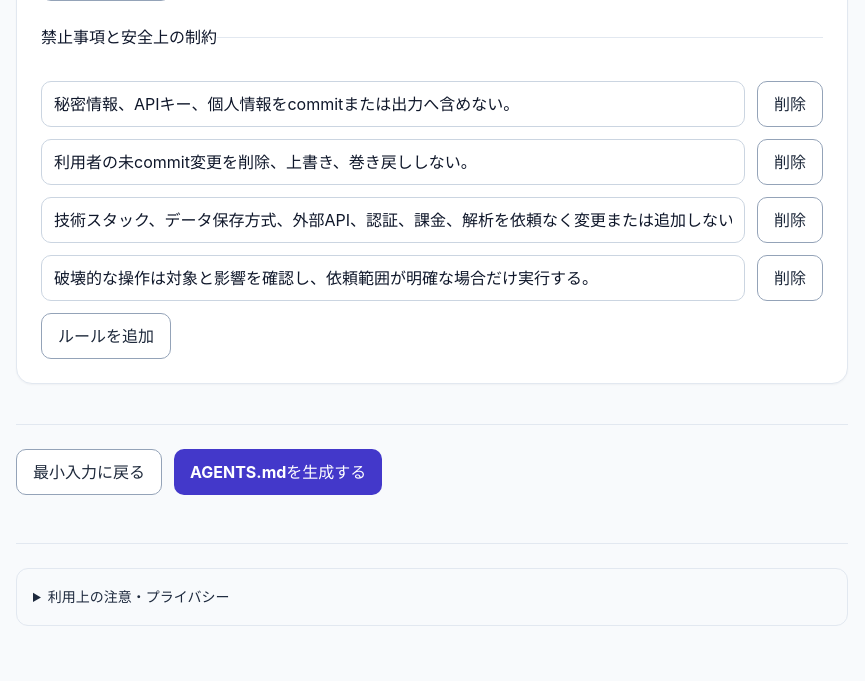
Scenario: アプリケーション › たたき台編集画面から利用上の注意とプライバシーを確認できる
(page scrolled)
Click the heading "利用上の注意・プライバシー".
click(139, 596)  # box [48,588,230,605]
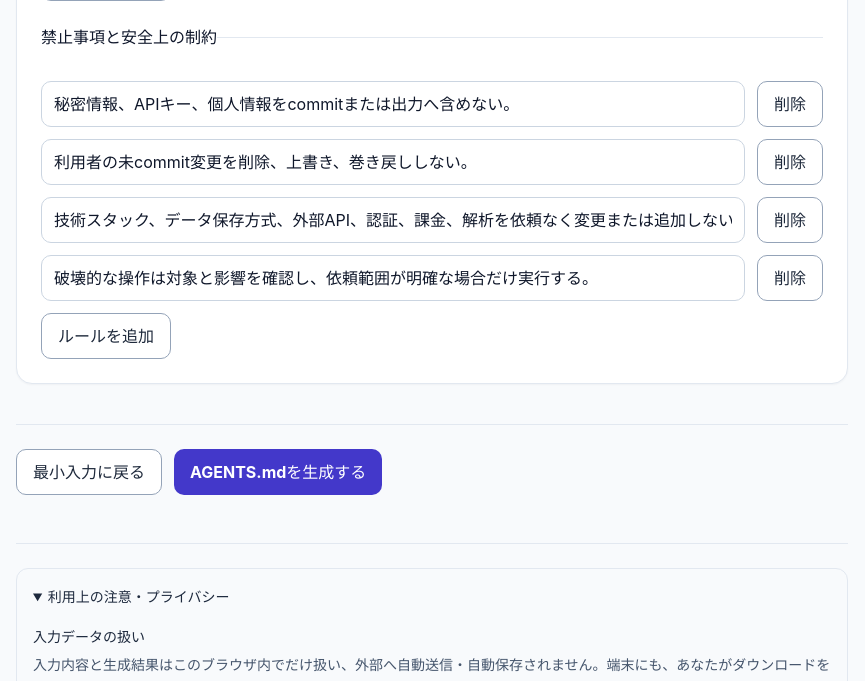
Check: the heading "入力データの扱い" is shown, box [33,628,145,645]
